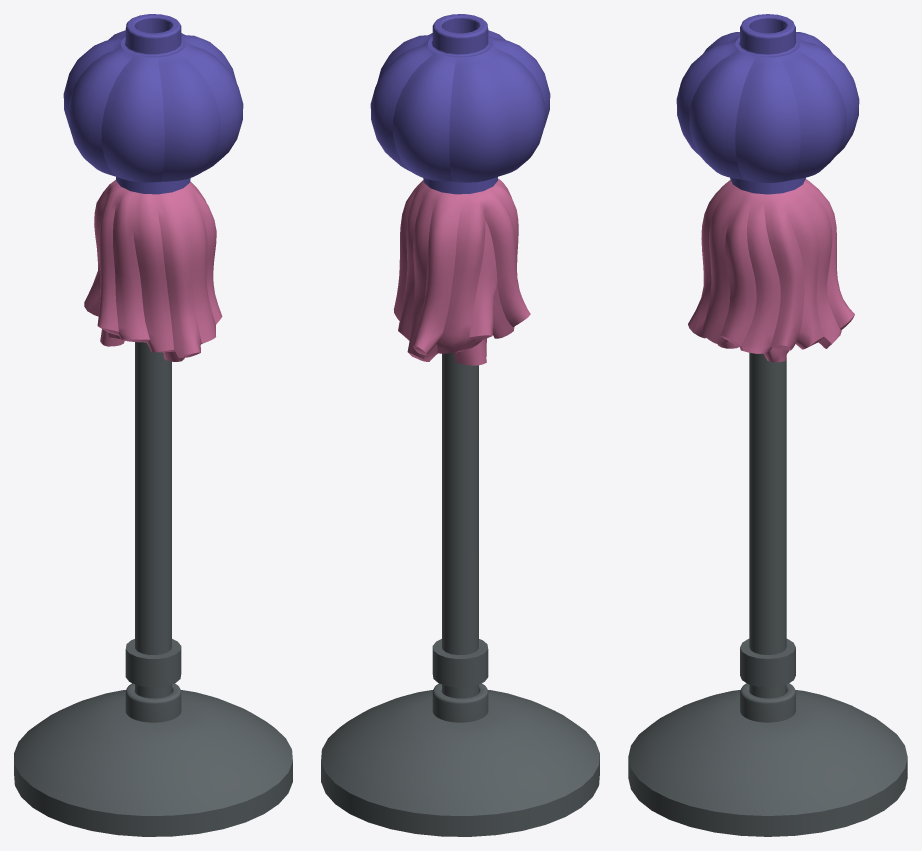
The model's file is Sea4.fbx.
3 views of the same model, side by side, from view 1: azimuth 30°, elevation 25°; view 2: azimuth 150°, elevation 25°; view 3: azimuth 270°, elevation 25° (orthographic).
Visible parts, largest first — view 1: part.001, part.002, part, part.003; view 2: part.001, part.002, part, part.003; view 3: part.001, part.002, part, part.003.
Boxes of the visible parts, x1,y1,x2,y2 form: part.001: [14, 683, 292, 836]; part.002: [63, 14, 243, 194]; part: [84, 180, 222, 361]; part.003: [125, 342, 181, 698]; part.001: [321, 683, 599, 836]; part.002: [370, 14, 550, 194]; part: [393, 178, 530, 365]; part.003: [432, 353, 488, 698]; part.001: [628, 683, 907, 836]; part.002: [676, 14, 859, 194]; part: [688, 179, 854, 362]; part.003: [740, 352, 795, 698].
Size of the model in its own units: 2400 by 7138 by 2400.
